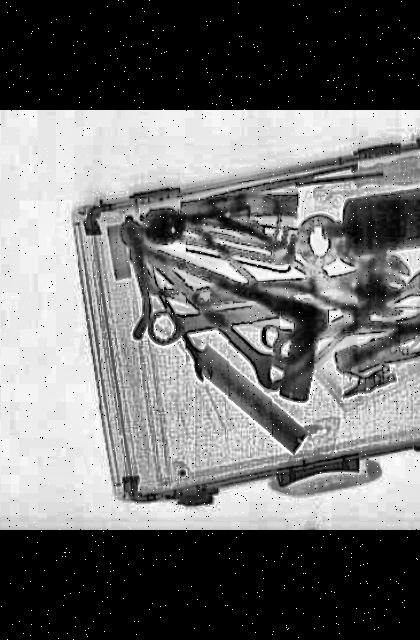Pliers: (322, 307, 420, 388)
Wrench: (101, 216, 301, 396), (141, 276, 403, 348), (190, 254, 412, 320), (256, 310, 420, 352), (146, 290, 214, 384)
